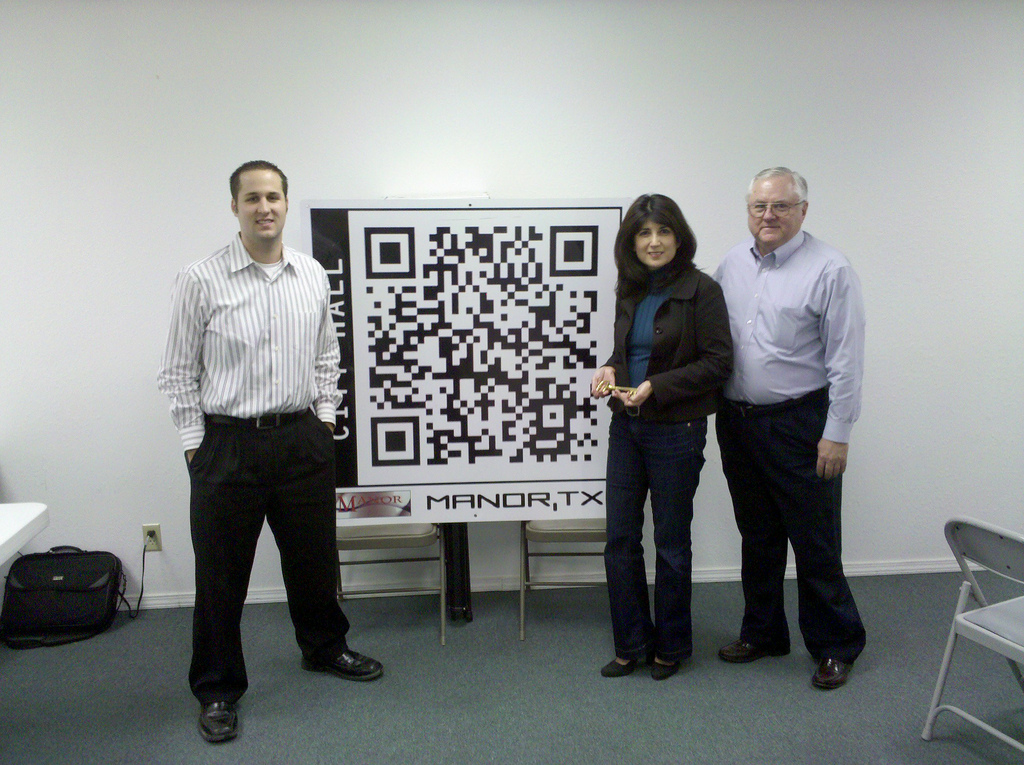QR-CODE: (365, 226, 597, 466)
